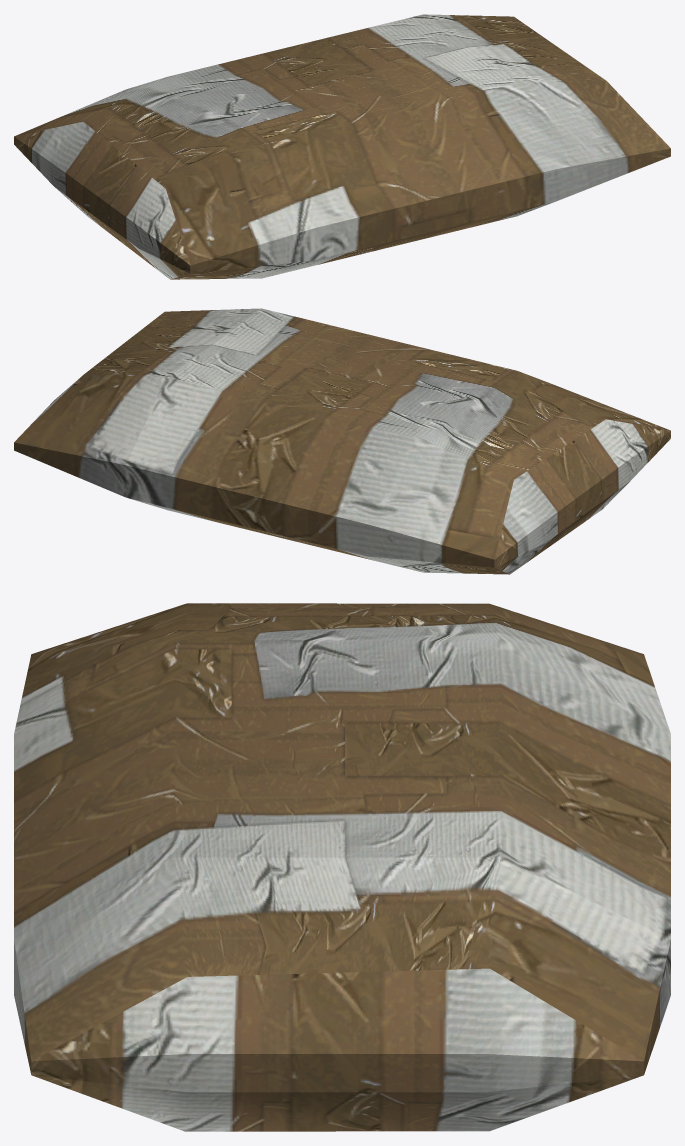
The model's file is Drug Pack.fbx.
3 views of the same model, one above another, from view 1: azimuth 30°, elevation 25°; view 2: azimuth 150°, elevation 25°; view 3: azimuth 270°, elevation 25° (orthographic). The views are drawn at different scales.
Visible parts, largest first — view 1: Drug Pack; view 2: Drug Pack; view 3: Drug Pack.
Part boxes in pixels (x1,y1,x2,y2): Drug Pack: (14, 14, 670, 279); Drug Pack: (14, 308, 670, 574); Drug Pack: (14, 603, 670, 1131).
Bounding box in the file's own units: 25 × 6.45 × 16.65.
Materials: 1 (1 with a texture image).
